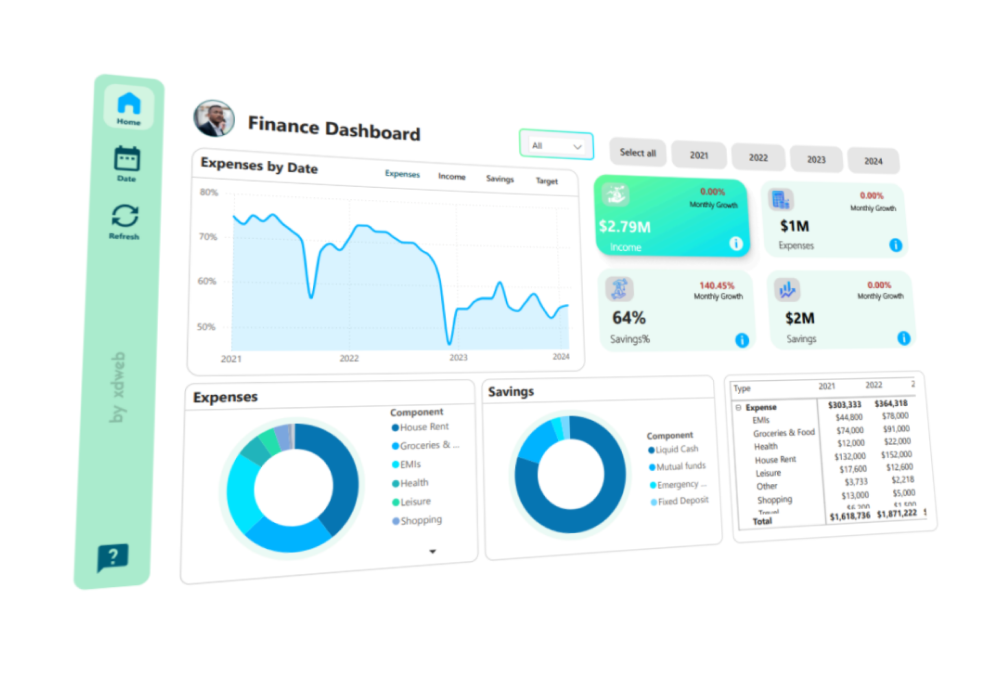

The page's visual inventory and layout, read from the dashboard file:
{"tool":"powerbi","page":{"name":"Page 1","canvas":[1280,720],"ordinal":0},"visuals":[{"type":"donutChart","title":"Savings","fields":{"Y":["Dataset.Savings"],"Category":["Dataset.Component"]},"box":[536.2,437.5,360,252.5],"z":0},{"type":"card","fields":{"Values":["Dataset.Expenses"]},"box":[993.8,167.5,113.8,88.8],"z":1000},{"type":"areaChart","fields":{"Y":["Dataset.Line_Chart_Measures"],"Category":["Dataset.Date"]},"box":[146.4,120,547.3,307.3],"z":2000},{"type":"card","fields":{"Values":["Dataset.Savings"]},"box":[993.8,326.2,108.8,71.2],"z":3000},{"type":"card","fields":{"Values":["Dataset.Savings%"]},"box":[711.2,317.5,107.5,80],"z":4000},{"type":"advancedSlicerVisual","fields":{"Values":["Dataset.Year"]},"box":[753.8,31.2,468.8,58.8],"z":5000},{"type":"donutChart","title":"Expenses","fields":{"Category":["Dataset.Component"],"Y":["Dataset.Expenses"]},"box":[145,437.5,382.5,252.5],"z":6000},{"type":"pivotTable","fields":{"Values":["Dataset.Total_Values"],"Rows":["Dataset.Type","Dataset.Component"],"Columns":["Dataset.Year"]},"box":[913.8,437.5,343.8,252.5],"z":7000},{"type":"card","fields":{"Values":["Dataset.Income"]},"box":[716.4,180.9,97.3,74.5],"z":8000},{"type":"textbox","box":[210.9,55.5,300,46.4],"z":9000},{"type":"slicer","fields":{"Values":["Selected_Date.Month-yr"]},"box":[595.5,55.5,128.2,46.4],"z":10000},{"type":"advancedSlicerVisual","fields":{"Values":["Line_Selection_Table.Type"]},"box":[390.9,122.7,290,37.3],"z":11000},{"type":"card","fields":{"Values":["Dataset.Ex_ws_Sav"]},"box":[573.3,155,150,81.7],"z":12000},{"type":"card","fields":{"Values":["Dataset.Income_Monthly_Gr"]},"box":[882.9,135,61.8,26.4],"z":13000,"group":"g1"},{"type":"card","fields":{"Values":["Dataset.Savings_Monthly_Gr"]},"box":[1161.1,135.5,61.8,26.4],"z":13000,"group":"g3"},{"type":"card","fields":{"Values":["Dataset.Expenses_Monthly_Gr"]},"box":[1153.8,283.9,74.6,23.8],"z":13000,"group":"g4"},{"type":"card","fields":{"Values":["Dataset.Ex_ws_Sav"]},"box":[859.5,286.1,105,28.8],"z":13000,"group":"g2"},{"type":"group","id":"g1","title":"Group 1","box":[861.8,135,103.6,45.9],"z":14000},{"type":"group","id":"g2","title":"Group 1","box":[859.5,286.1,105.9,41.7],"z":15000},{"type":"textbox","box":[861.8,153.6,103.6,27.3],"z":15001,"group":"g1"},{"type":"textbox","box":[1140,154.1,103.6,27.3],"z":15001,"group":"g3"},{"type":"textbox","box":[861.8,300.5,103.6,27.3],"z":15001,"group":"g2"},{"type":"textbox","box":[1140,300.5,103.6,27.3],"z":15001,"group":"g4"},{"type":"group","id":"g3","title":"Group 1","box":[1140,135.5,103.6,45.5],"z":16000},{"type":"group","id":"g4","title":"Group 1","box":[1140,283.9,103.6,43.8],"z":17000}]}

Visuals, with their boxes on the page's 1280x720 design canvas (x1, y1, x2, y2). These are canvas units, not pixel positions in the 1005x684 screenshot, which may show the page scaled, cropped or inside an application window:
"Savings" donutChart: <region>536, 438, 896, 690</region>
card - Dataset.Expenses: <region>994, 168, 1108, 256</region>
areaChart - Dataset.Line_Chart_Measures x Dataset.Date: <region>146, 120, 694, 427</region>
card - Dataset.Savings: <region>994, 326, 1103, 397</region>
card - Dataset.Savings%: <region>711, 318, 819, 398</region>
advancedSlicerVisual - Dataset.Year: <region>754, 31, 1223, 90</region>
"Expenses" donutChart: <region>145, 438, 528, 690</region>
pivotTable - Dataset.Total_Values x Dataset.Type: <region>914, 438, 1258, 690</region>
card - Dataset.Income: <region>716, 181, 814, 255</region>
textbox: <region>211, 56, 511, 102</region>
slicer - Selected_Date.Month-yr: <region>596, 56, 724, 102</region>
advancedSlicerVisual - Line_Selection_Table.Type: <region>391, 123, 681, 160</region>
card - Dataset.Ex_ws_Sav: <region>573, 155, 723, 237</region>
card - Dataset.Income_Monthly_Gr: <region>883, 135, 945, 161</region>
card - Dataset.Savings_Monthly_Gr: <region>1161, 136, 1223, 162</region>
card - Dataset.Expenses_Monthly_Gr: <region>1154, 284, 1228, 308</region>
card - Dataset.Ex_ws_Sav: <region>860, 286, 964, 315</region>
"Group 1" group: <region>862, 135, 965, 181</region>
"Group 1" group: <region>860, 286, 965, 328</region>
textbox: <region>862, 154, 965, 181</region>
textbox: <region>1140, 154, 1244, 181</region>
textbox: <region>862, 300, 965, 328</region>
textbox: <region>1140, 300, 1244, 328</region>
"Group 1" group: <region>1140, 136, 1244, 181</region>
"Group 1" group: <region>1140, 284, 1244, 328</region>
